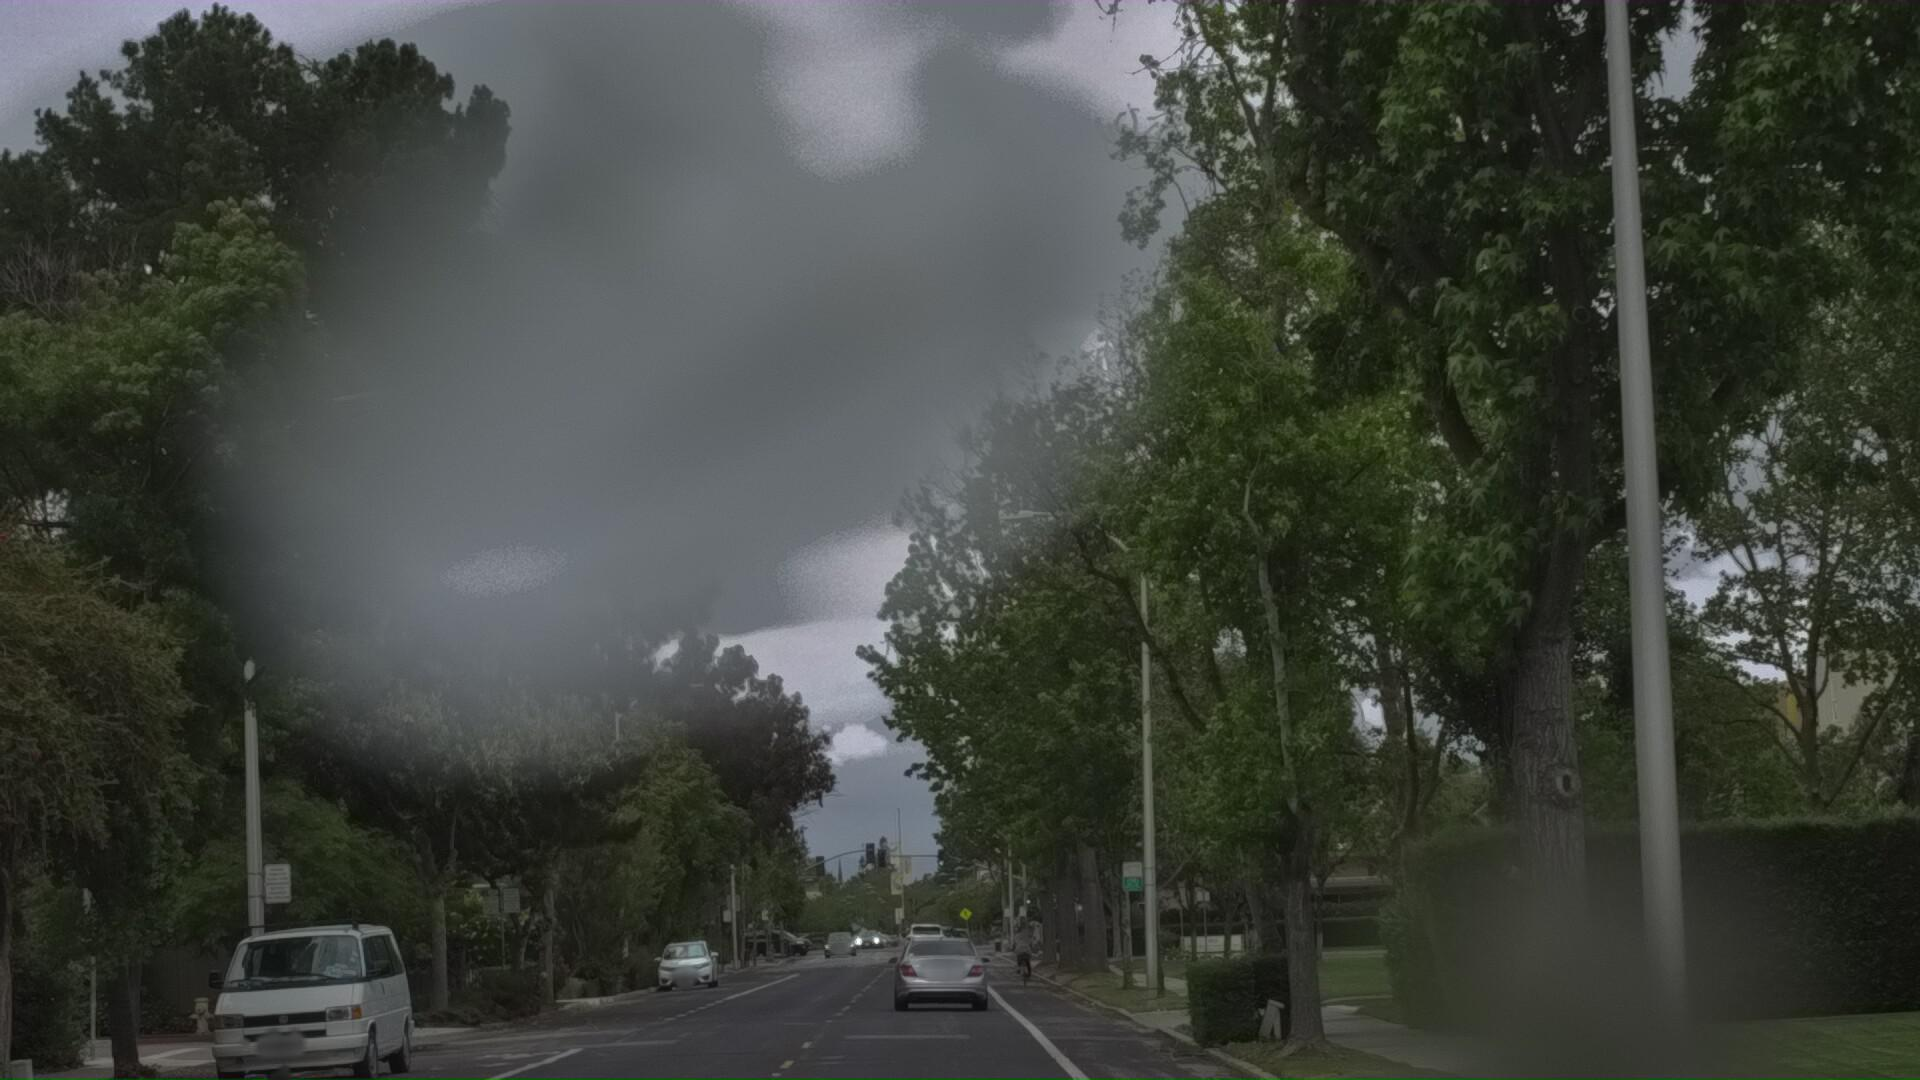car: (200, 951, 431, 1080), (891, 964, 996, 1065)
